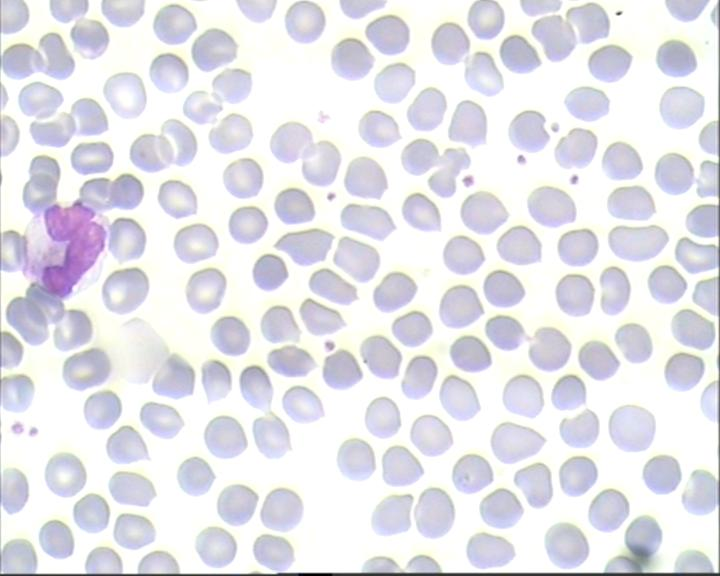mono: (19, 195, 110, 301)
